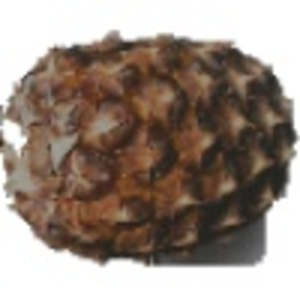abacaxi: (3, 31, 291, 264)
